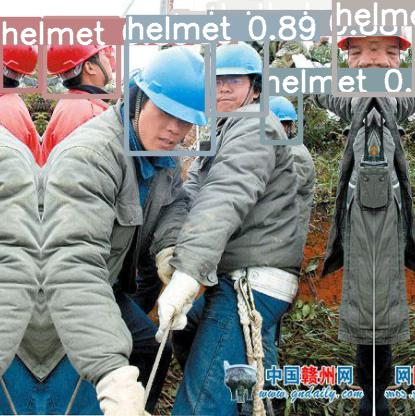helmet: (126, 40, 213, 153), (334, 0, 414, 94), (44, 18, 118, 96), (207, 35, 266, 114), (0, 19, 40, 90), (262, 93, 300, 142), (219, 1, 246, 34), (266, 0, 294, 30), (243, 0, 267, 25), (208, 4, 225, 30), (172, 11, 188, 31)
